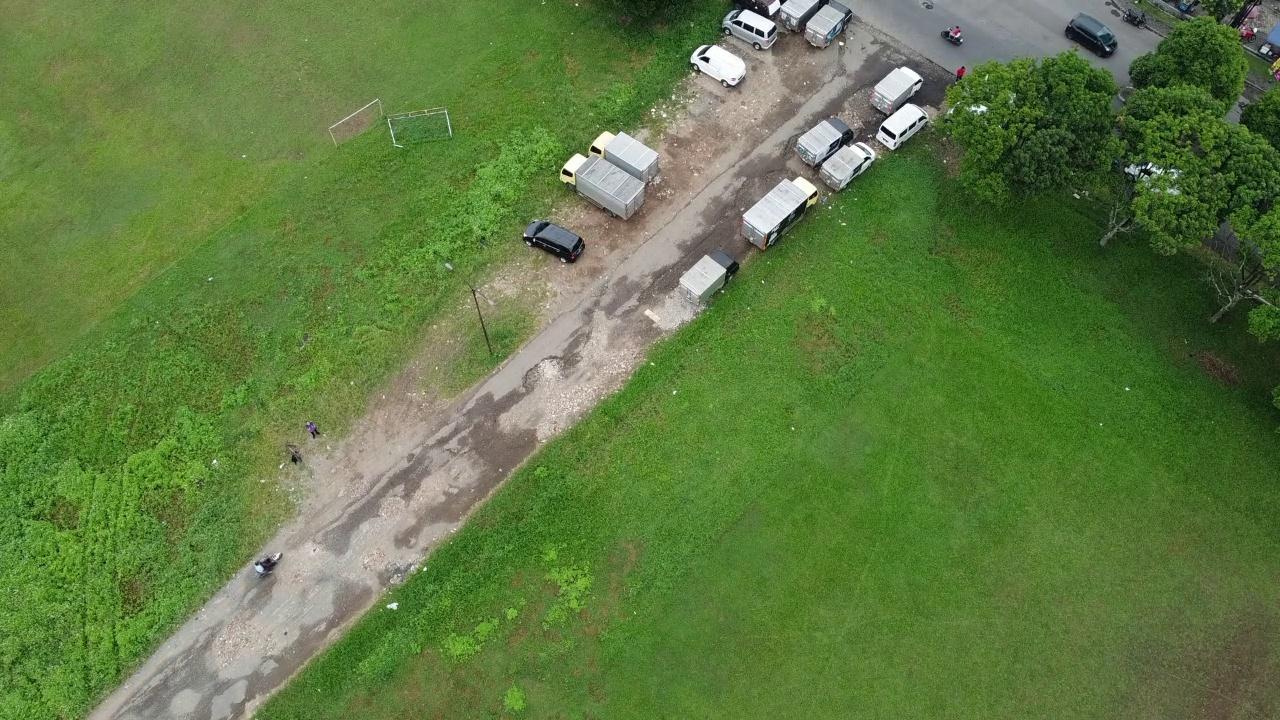mobil: (680, 42, 749, 94), (870, 98, 934, 152), (521, 217, 587, 266), (1065, 9, 1123, 63), (720, 6, 783, 53)
